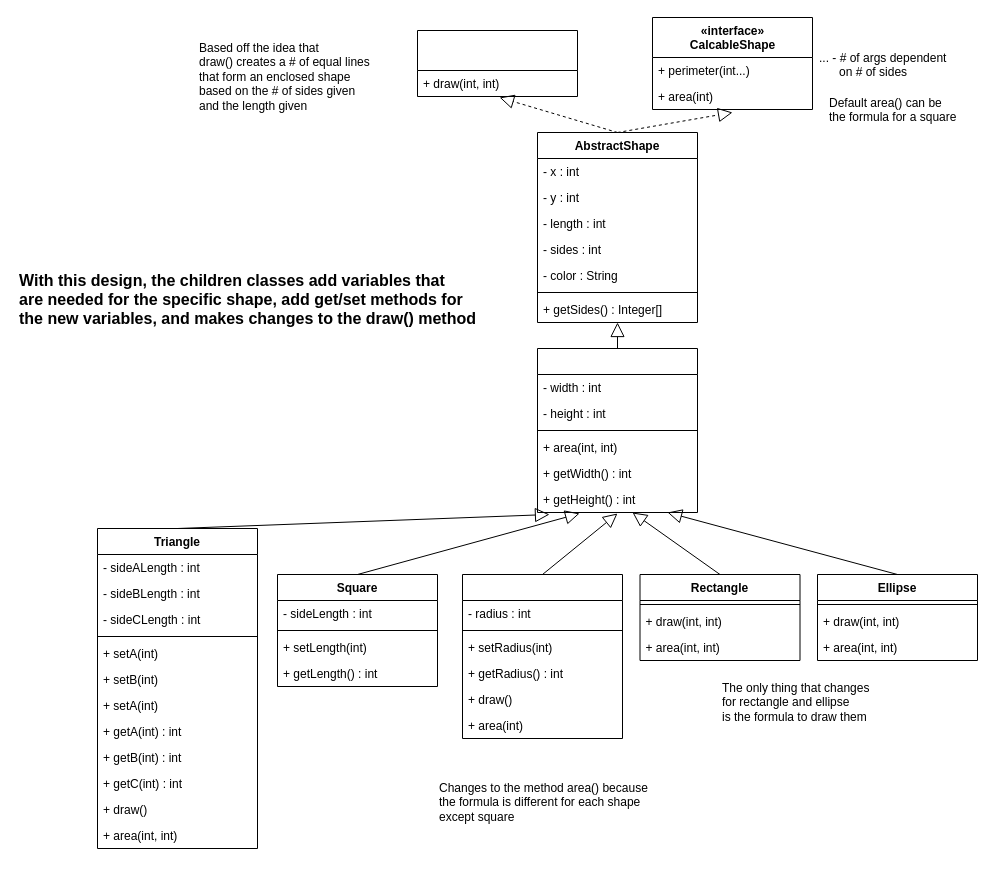
This 995x869 diagram has some shape labels left out. The box of each missing label's shape, as (x1, y1, x2, y2) in pixels:
AbstractSymmetricQuad: (536, 348, 698, 512)
Circle: (462, 574, 622, 738)
«interface» DrawableShape: (416, 30, 578, 96)
